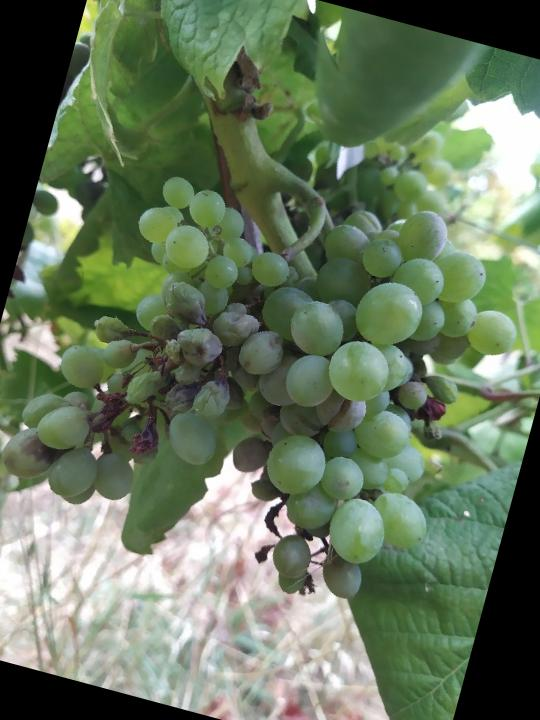grape: (0, 117, 540, 639)
